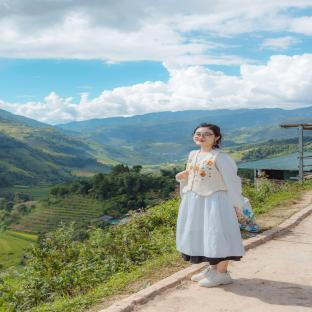Human: (176, 123, 245, 287)
